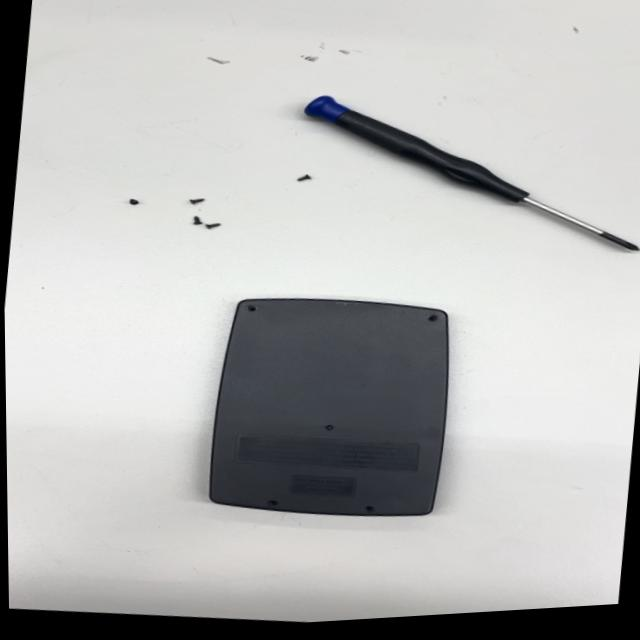back_cover: (199, 276, 465, 535)
screw: (184, 192, 210, 207), (294, 172, 313, 187), (204, 218, 225, 231), (124, 196, 143, 207), (190, 214, 204, 226)
screw_driver: (290, 75, 640, 273)
